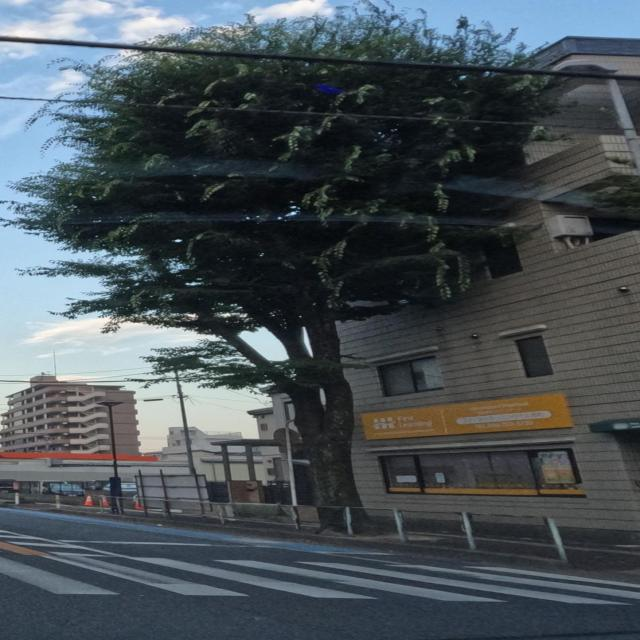zelkova: (0, 0, 618, 536)
